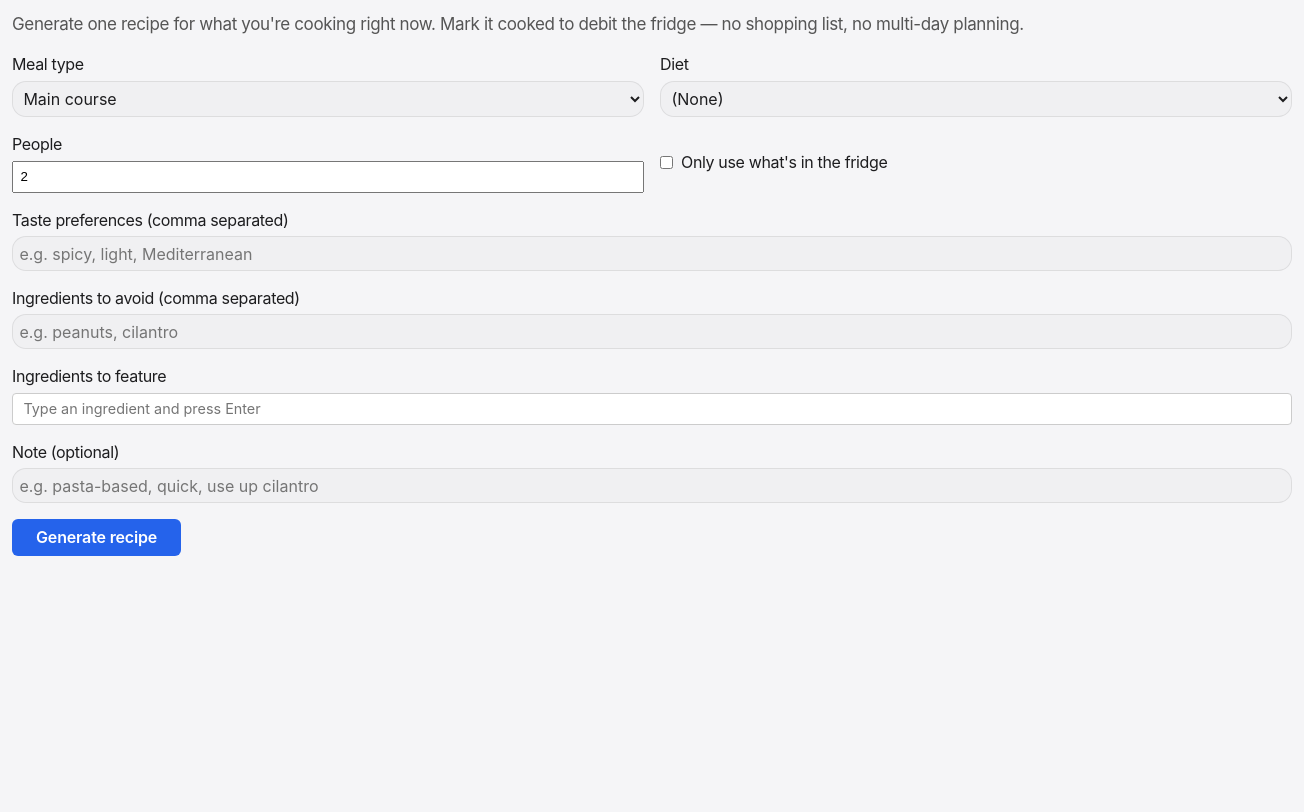
Test case: CookNowForm › surfaces generation errors inline without clearing the form
Click the button "Generate recipe": (97, 538) [12,519,181,556]
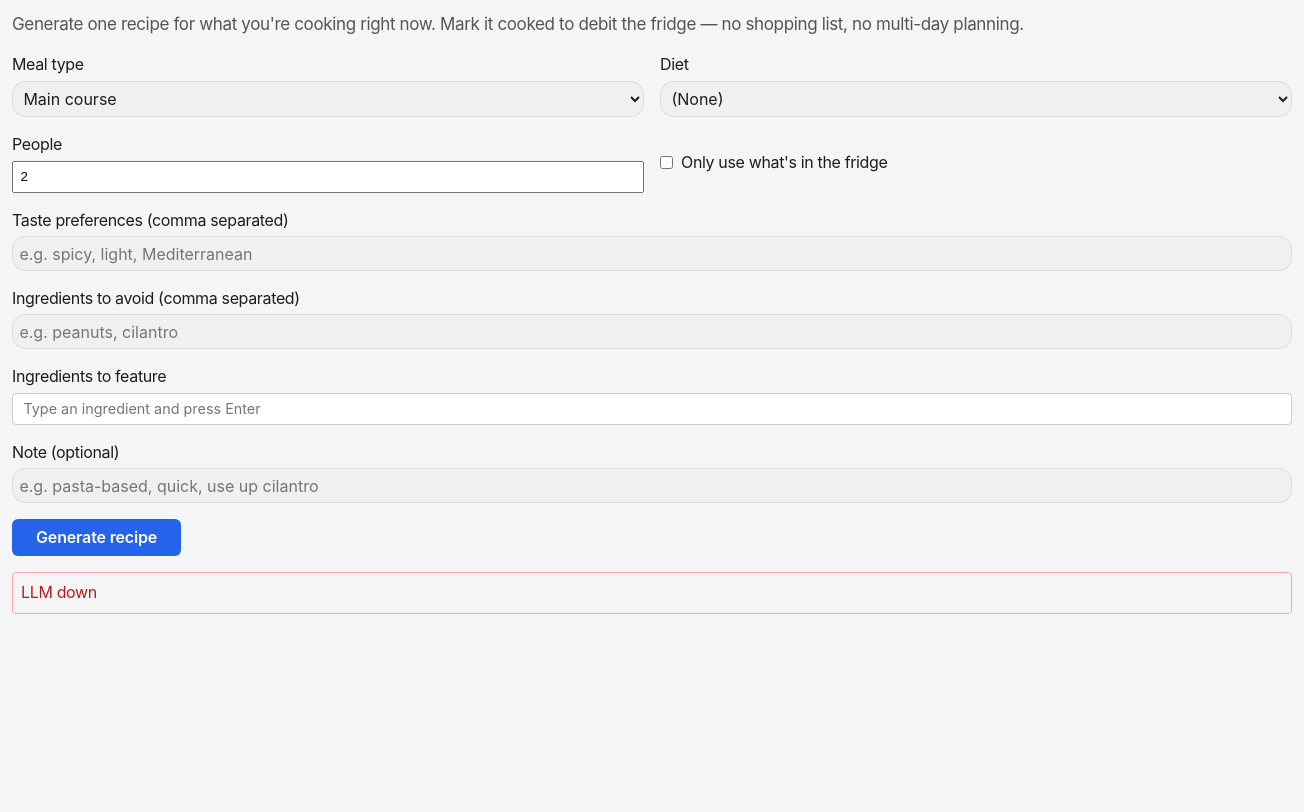
Expected: the message reads "LLM down", [21,582,97,602]
